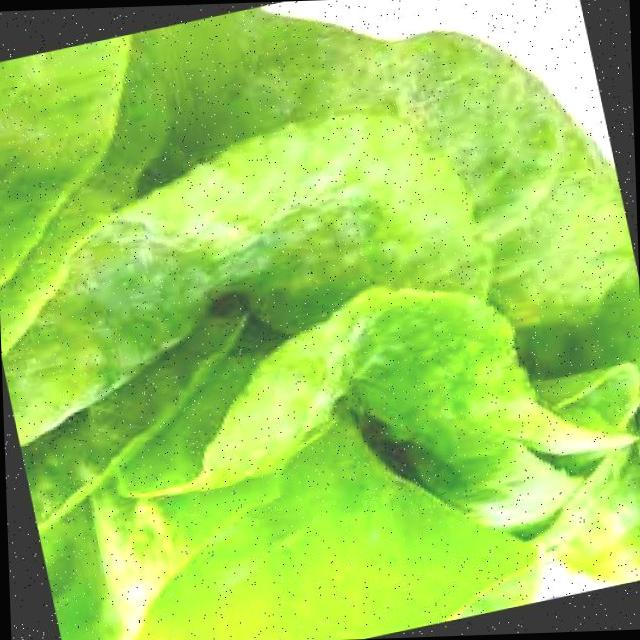Septoria_Blight: (110, 44, 520, 343)
